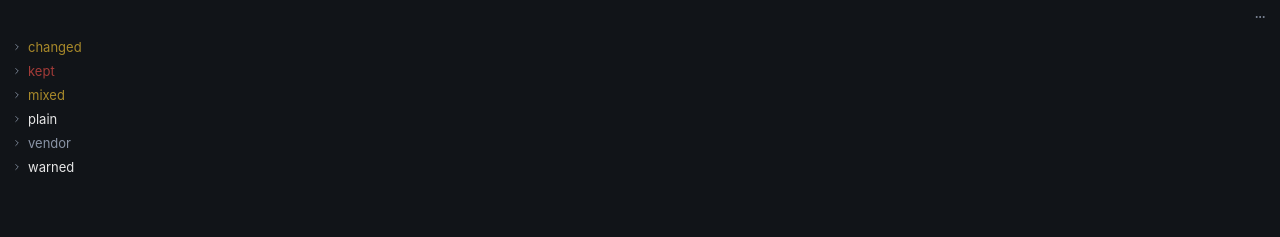
Test: a nested repository's folder keeps its colour after it collapses, and so does every folder above it (#289)
The image size is (1280, 237).
Double-click the button titled "vendor" at coordinates (49, 143), box top-left (6, 131), bottom-right (1274, 155)
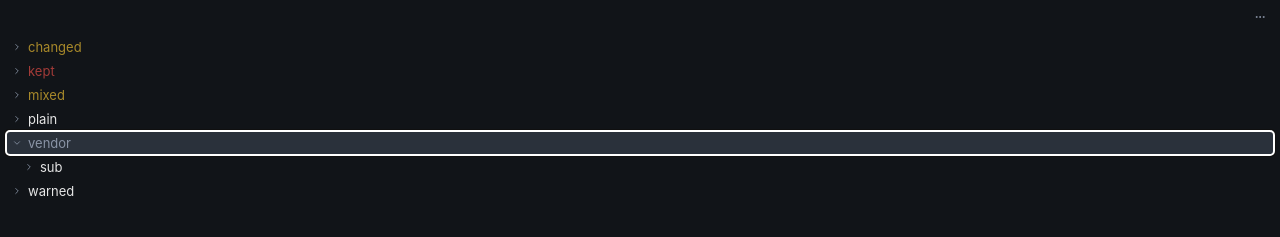
Double-click the button titled "vendor/sub" at coordinates (29, 167), box top-left (6, 155), bottom-right (1274, 179)
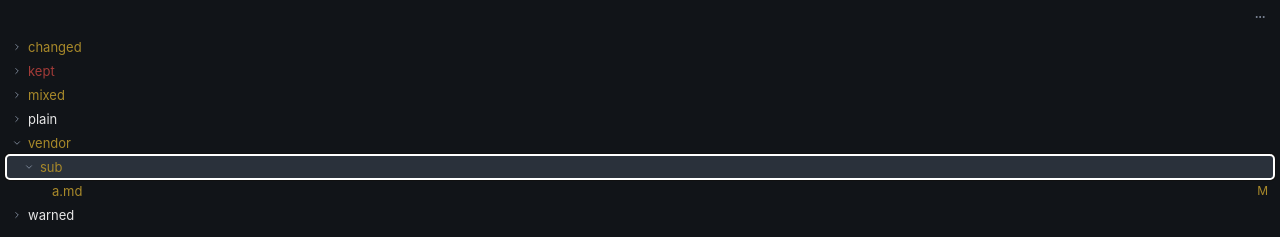
Expected: the button titled "vendor/sub/a.md" is shown, top-left (6, 179), bottom-right (1274, 203)
Double-click the button titled "vendor/sub" at coordinates (29, 167), box top-left (6, 155), bottom-right (1274, 179)
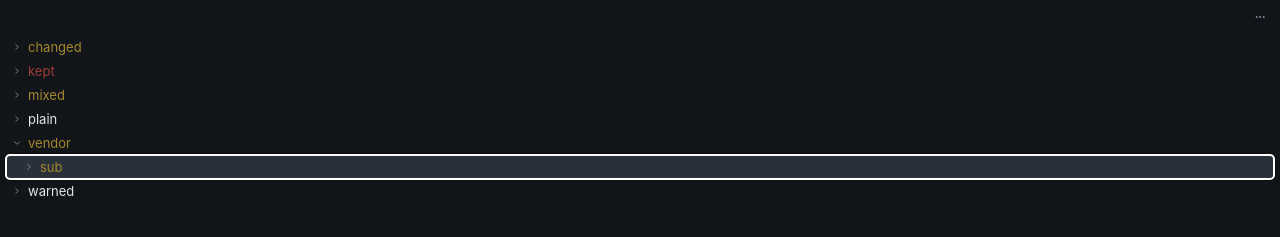
Expected: the text "sub" has class "text-git-modified", top-left (40, 159), bottom-right (62, 175)
Double-click the button titled "vendor" at coordinates (49, 143), box top-left (6, 131), bottom-right (1274, 155)
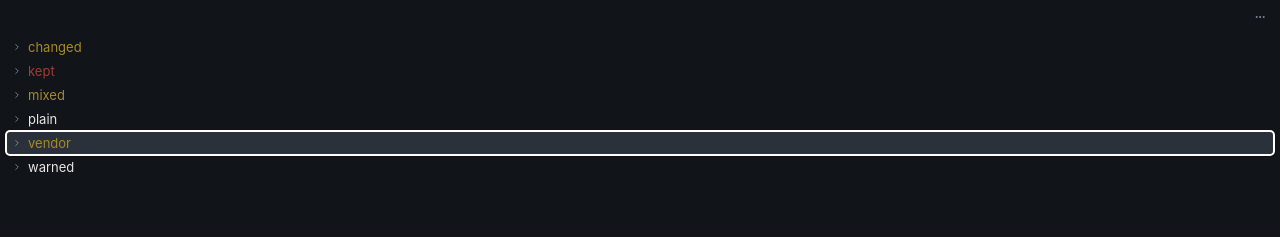
Expected: the button titled "vendor/sub" is gone
